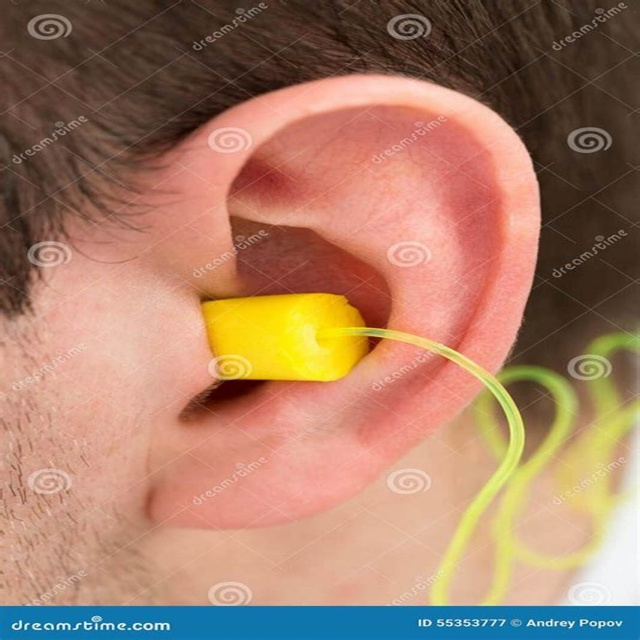Hearing_Protection: (225, 291, 348, 361)
